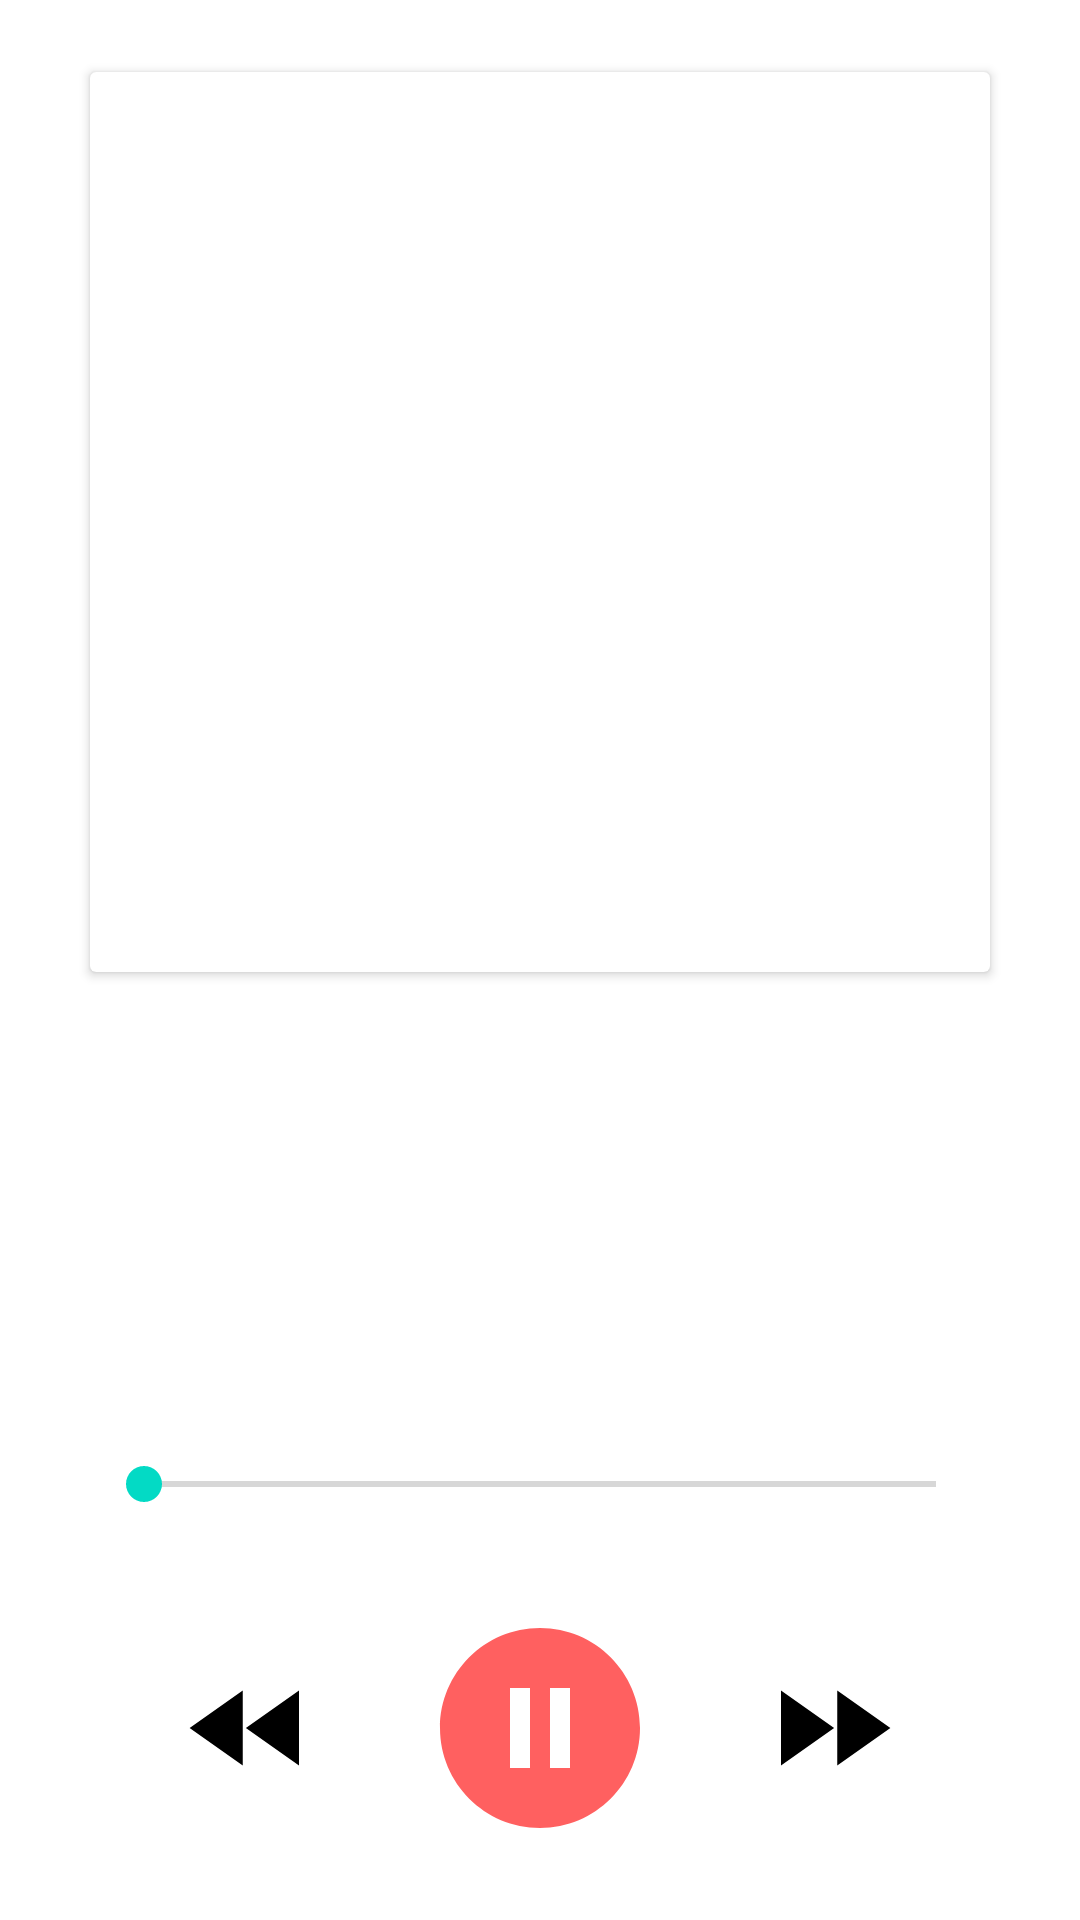

Icon click points for this 1080*1920 phone screenshot, format point (x, y):
fast forward: point (835, 1728)
fast rewind: point (244, 1728)
pause circle: point (540, 1728)
